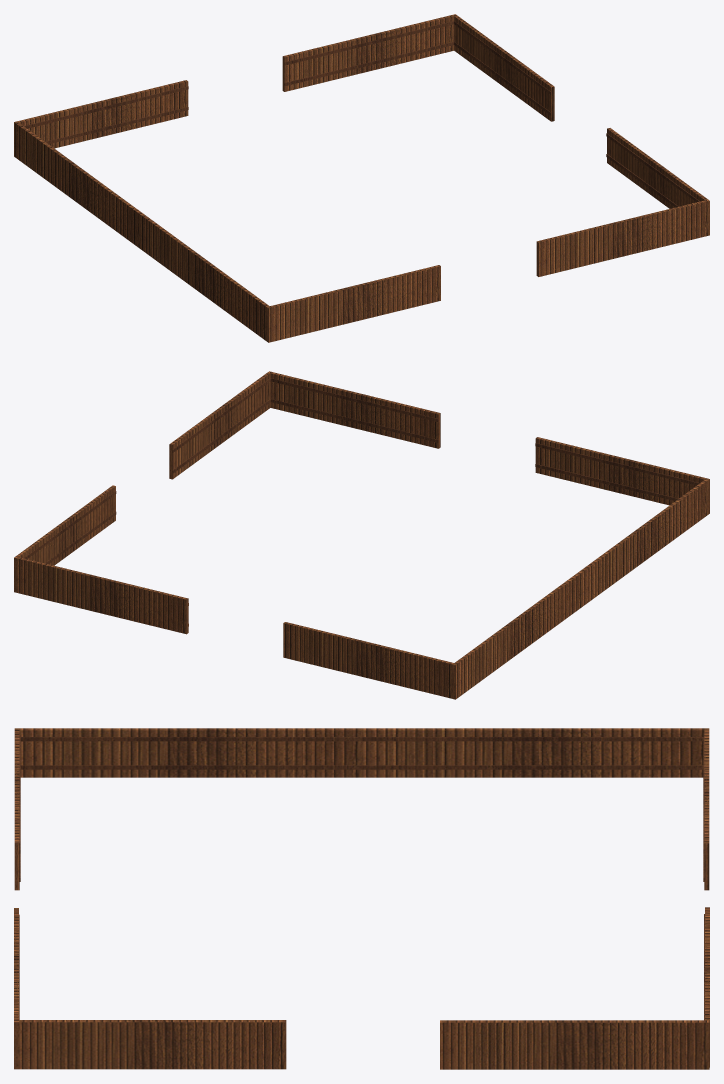
File: stuga_saku.FBX
The picture shows the model from 3 angles, top to bottom: view 1: azimuth 30°, elevation 25°; view 2: azimuth 150°, elevation 25°; view 3: azimuth 270°, elevation 25°; orthographic projection. The views are drawn at different scales.
Parts seen in each view (by area): view 1: オブジェクト156; view 2: オブジェクト156; view 3: オブジェクト156.
Boxes of the visible parts, x1,y1,x2,y2 form: オブジェクト156: [14, 14, 709, 342]; オブジェクト156: [14, 371, 709, 699]; オブジェクト156: [14, 728, 709, 1069].
Bounding box in the file's own units: 408 × 30.43 × 407.
